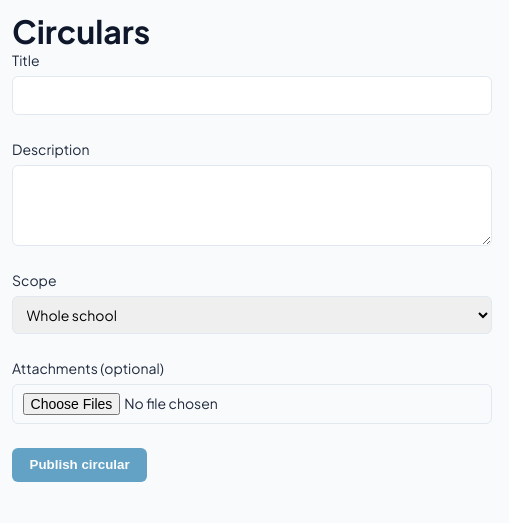
it: CircularsView › shows an error message if publishing fails
The image size is (509, 523).
Type "New notice" into the field with test id "title-input". click: (252, 96)
box: [12,76,492,115]
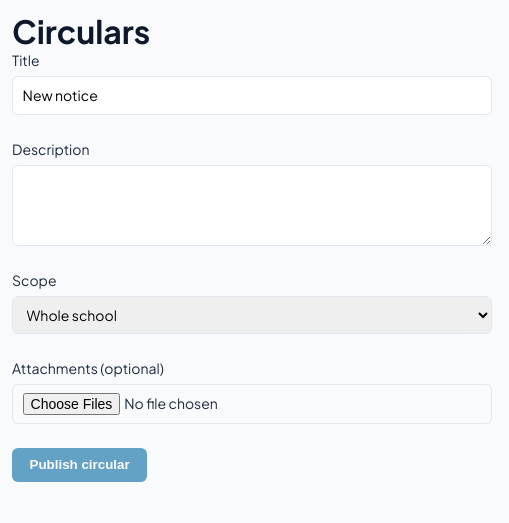
Type "Details here." into the text box with test id "description-input". click: (252, 206)
box: [12,165,492,246]
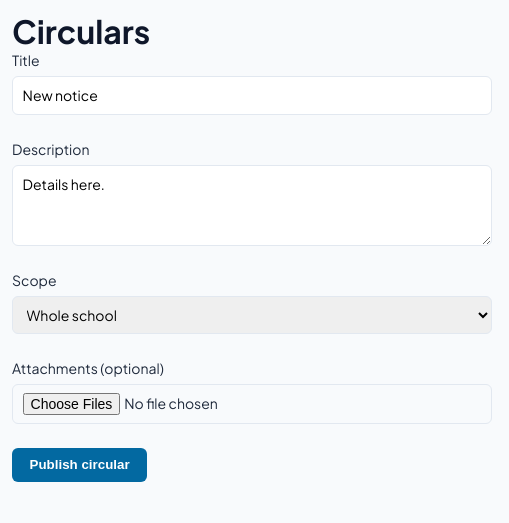
Click the button with test id "publish-circular". click: (80, 465)
box: [12,448,147,482]
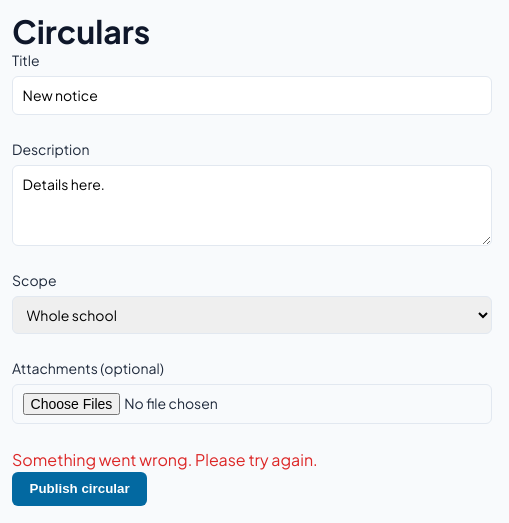
Expected: the text "Something went wrong" is shown, [12,449,318,470]
